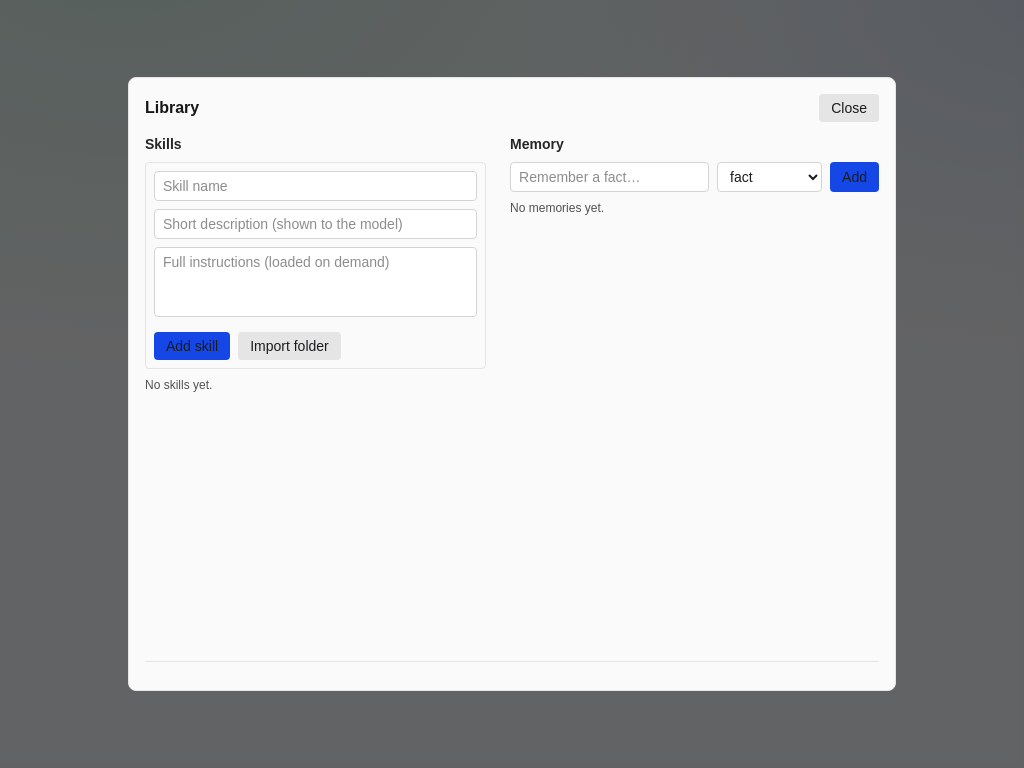
LibraryPanel — Skills › requires a name and description before creating
Expected: the text "No skills yet." is shown, [145,378,212,392]
Click the button "Add skill". click: {"x": 192, "y": 346}
box: [154,332,230,360]
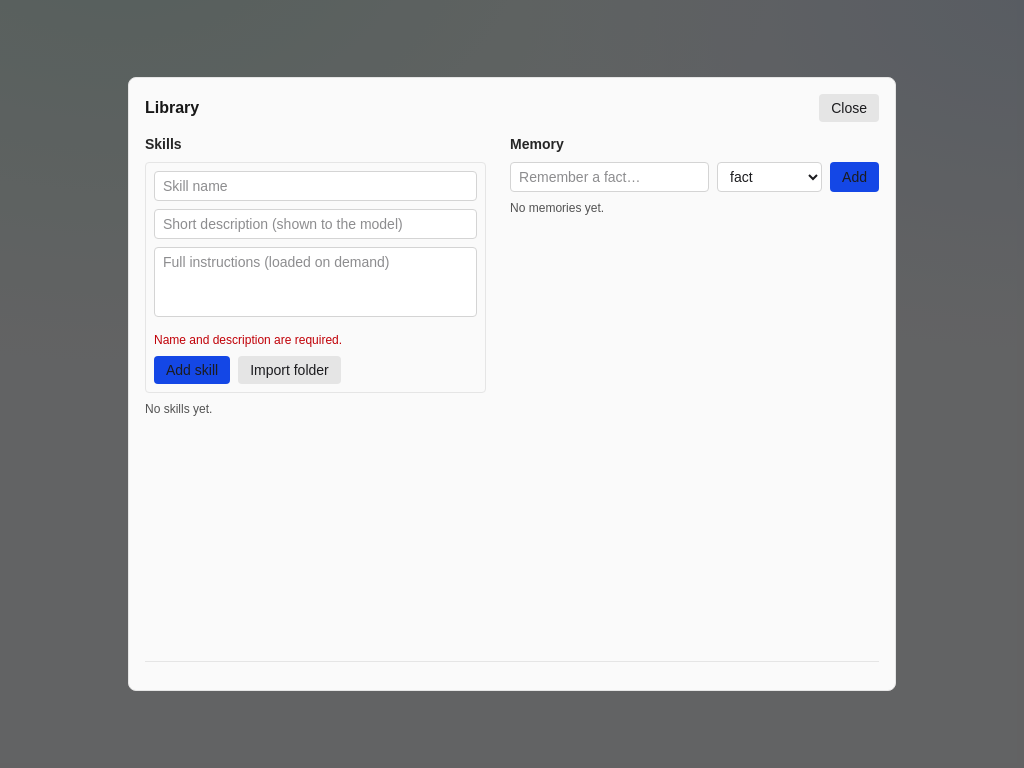
Now the text "Name and description are required." is shown, box [154,333,342,347]
